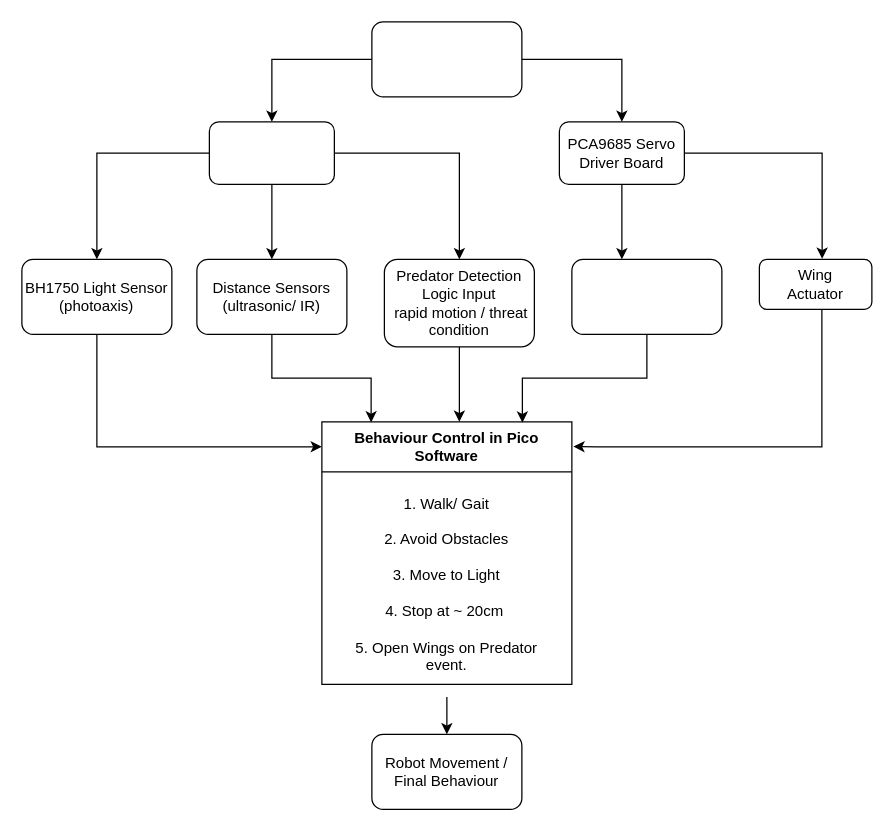
Some shapes in this 894 by 831 pixel diagram are drawn without their labels. The shapes that lost their labels are listed below. From the top down, each one's box as (x1, y1, x2, y2) in pixels, then its label:
(371, 21, 522, 97): Power Supply from Laptop & AA Batteries
(208, 121, 334, 184): Raspberry Pi Pico
(571, 258, 722, 334): Leg Servos (SG90s) walking gait
